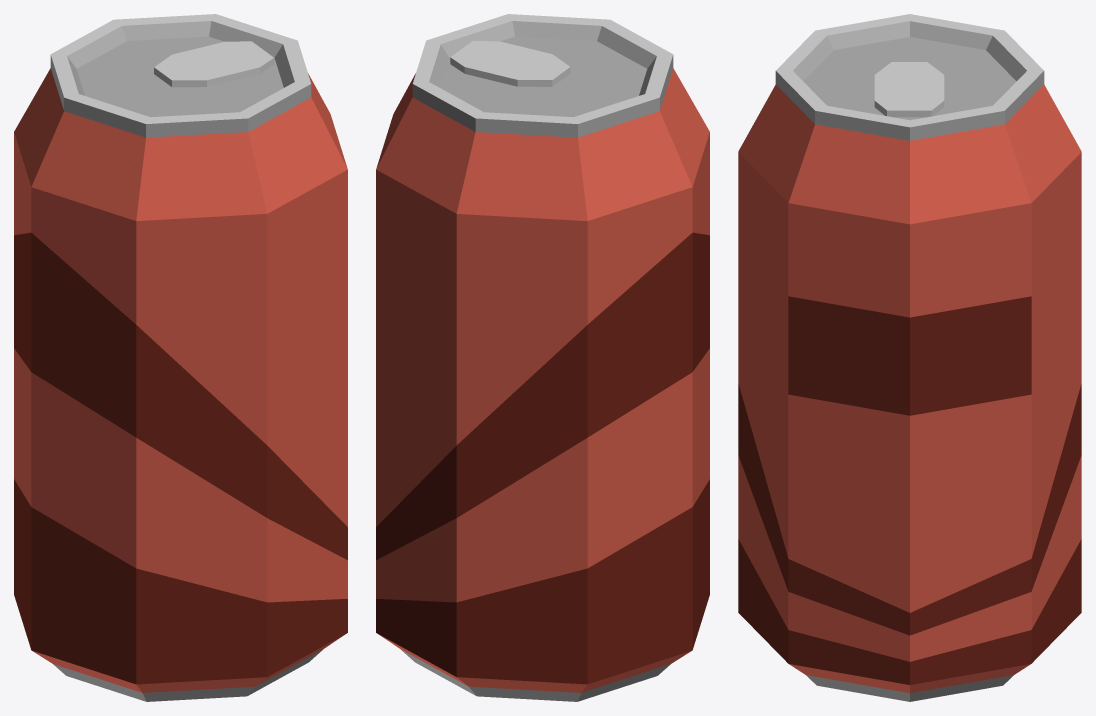
The model's file is SodaCan_3D.glb.
3 renders of one model, left to right at view 1: azimuth 30°, elevation 25°; view 2: azimuth 150°, elevation 25°; view 3: azimuth 270°, elevation 25°, orthographic.
Parts seen in each view (by area): view 1: sodaCan (1); view 2: sodaCan (1); view 3: sodaCan (1).
Boxes of the visible parts, box(x1,y1,x2,y2) form: sodaCan (1): box(14, 14, 347, 701); sodaCan (1): box(376, 14, 709, 701); sodaCan (1): box(738, 14, 1081, 701).
Bounding box in the file's own units: 0.1051 × 0.1942 × 0.1051.
1 material, 1 textured.
